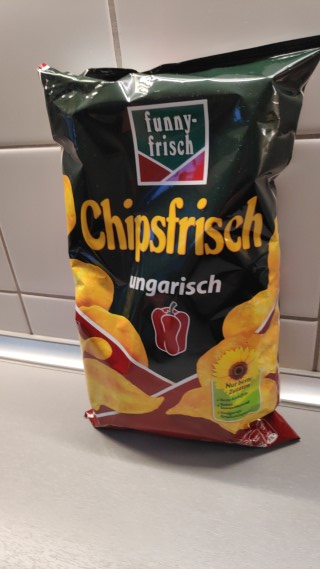chipsfrisch: (35, 34, 320, 452)
